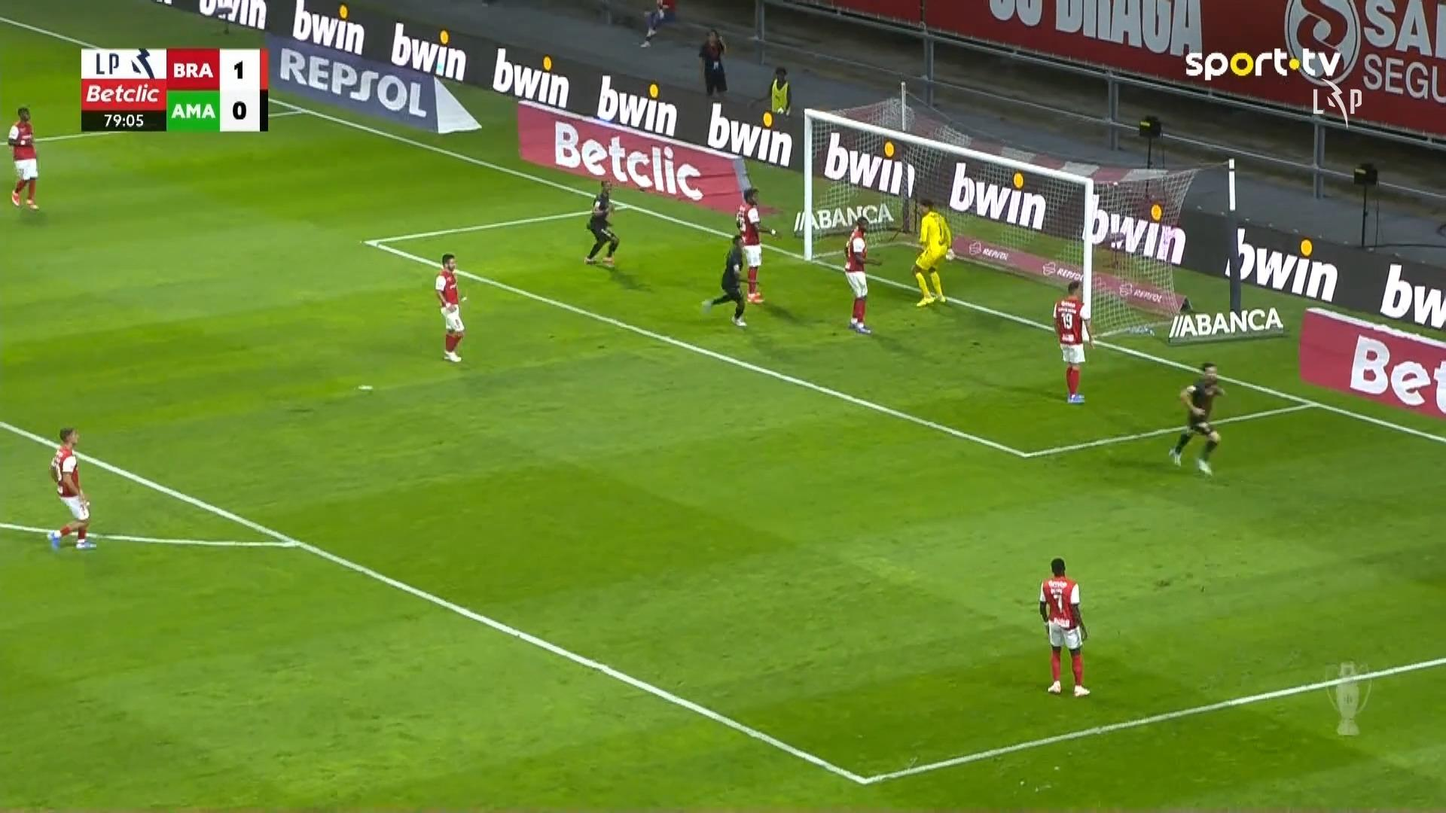goalkeeper: (911, 196, 953, 306)
player: (1038, 556, 1091, 697), (1167, 361, 1225, 477), (46, 426, 97, 550), (1051, 279, 1094, 403), (734, 187, 778, 304), (700, 233, 749, 327), (843, 215, 881, 334), (433, 253, 466, 362), (6, 106, 39, 209), (583, 179, 619, 268)
